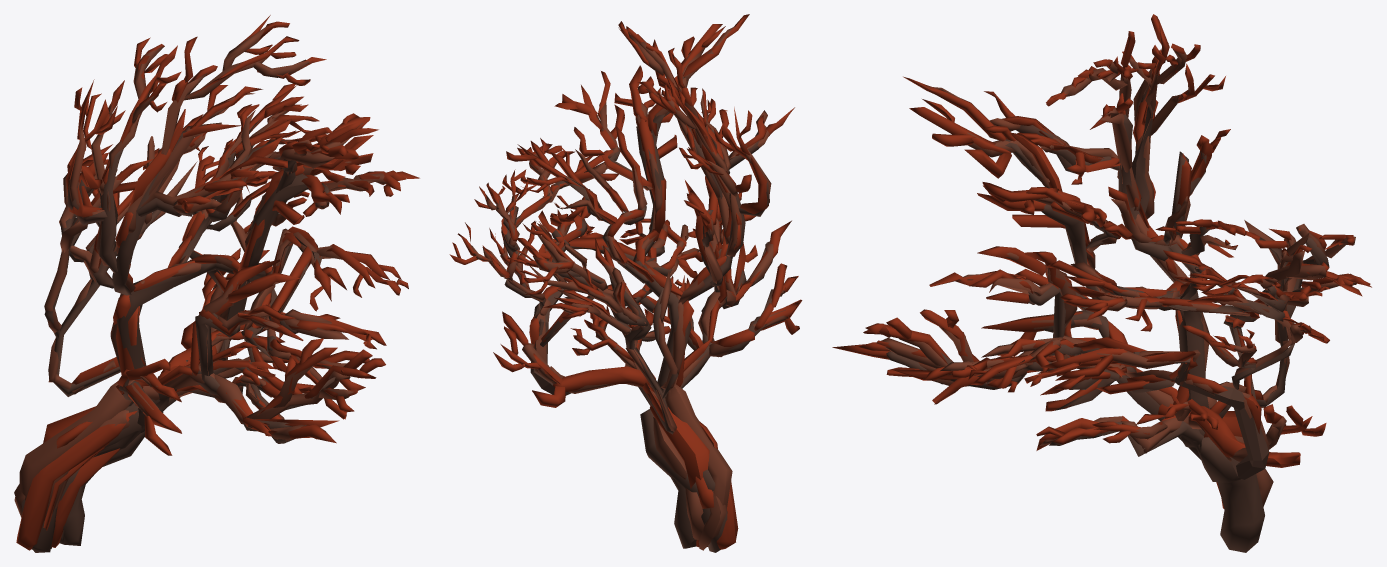
Rendered from coralBranching_9_17_2022.fbx.
3 renders of one model, left to right at view 1: azimuth 30°, elevation 25°; view 2: azimuth 150°, elevation 25°; view 3: azimuth 270°, elevation 25°, orthographic. The views are drawn at different scales.
Parts seen in each view (by area): view 1: coralBranching_LOD0; view 2: coralBranching_LOD0; view 3: coralBranching_LOD0.
Boxes of the visible parts, x1=… form: coralBranching_LOD0: x1=14, y1=15, x2=419, y2=552; coralBranching_LOD0: x1=449, y1=14, x2=802, y2=552; coralBranching_LOD0: x1=832, y1=14, x2=1371, y2=552.
Size of what is drawn, in the model's own units: 173 by 269 by 232.
